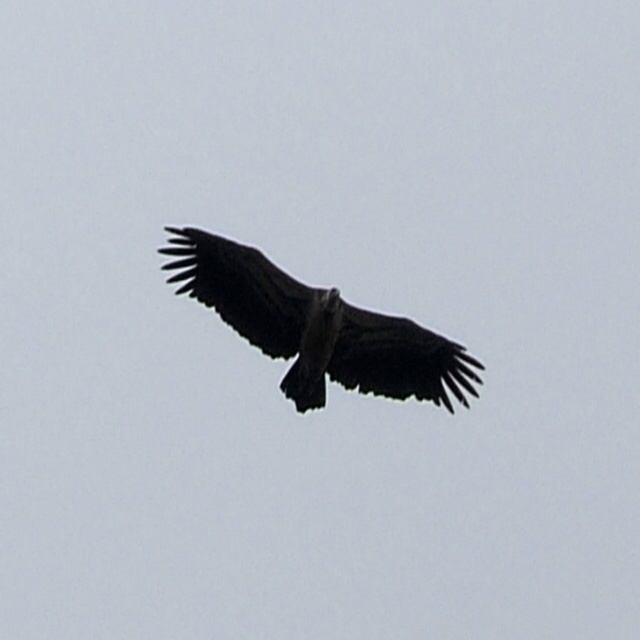Eagle: (157, 226, 486, 415)
